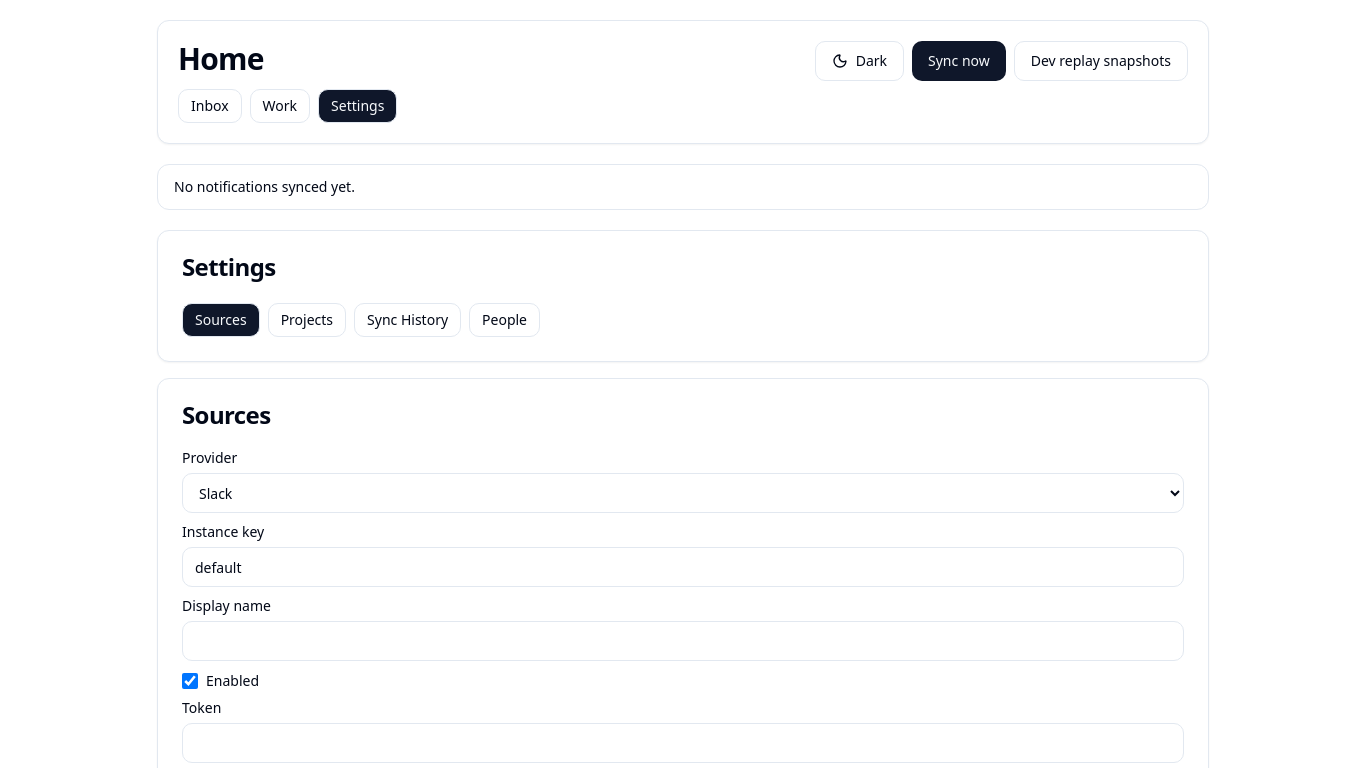
Test: App › renders settings route and allows navigation back to inbox
The image size is (1366, 768).
Check: the heading "Settings" is shown, box x1=182 y1=250 x2=276 y2=283
Click the link "Inbox". click: (210, 106)
box: x1=178 y1=89 x2=242 y2=123
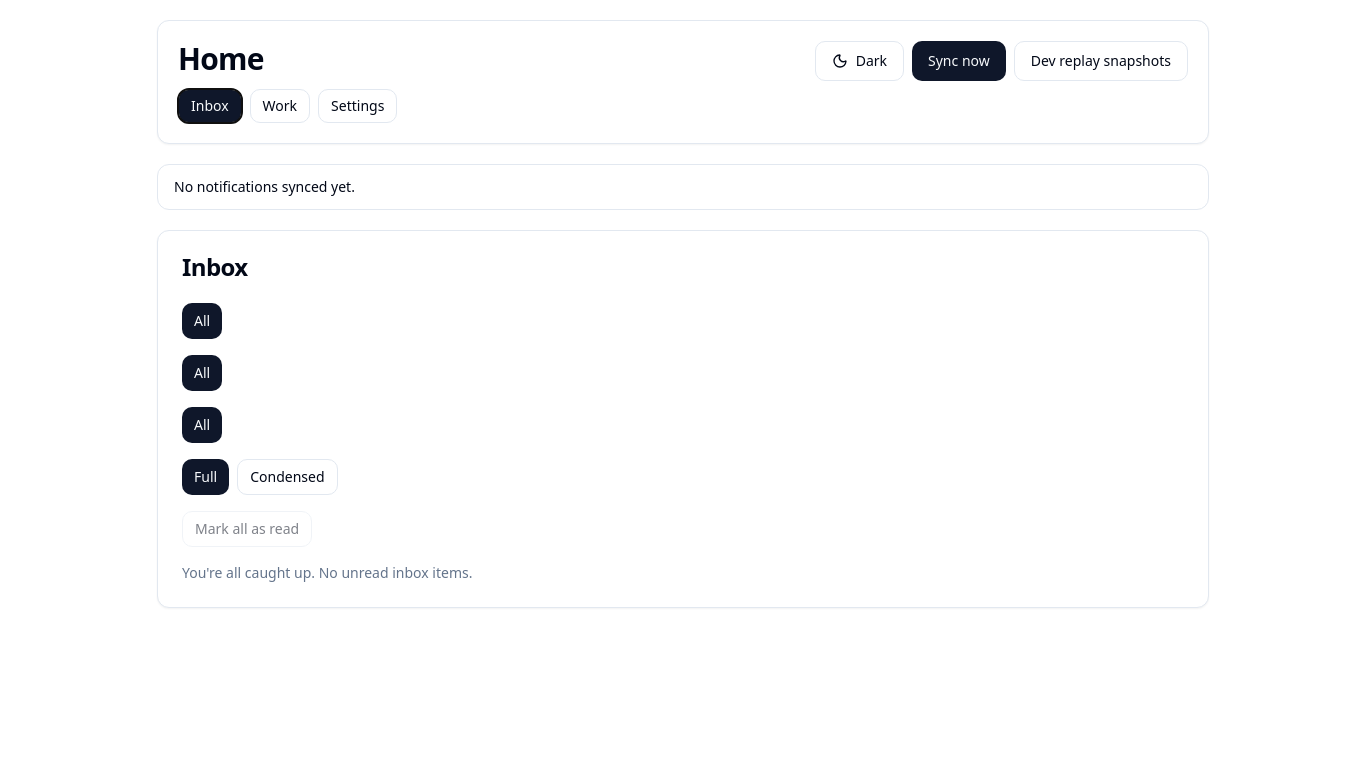
Check: the heading "Inbox" is shown, box x1=182 y1=250 x2=248 y2=283
